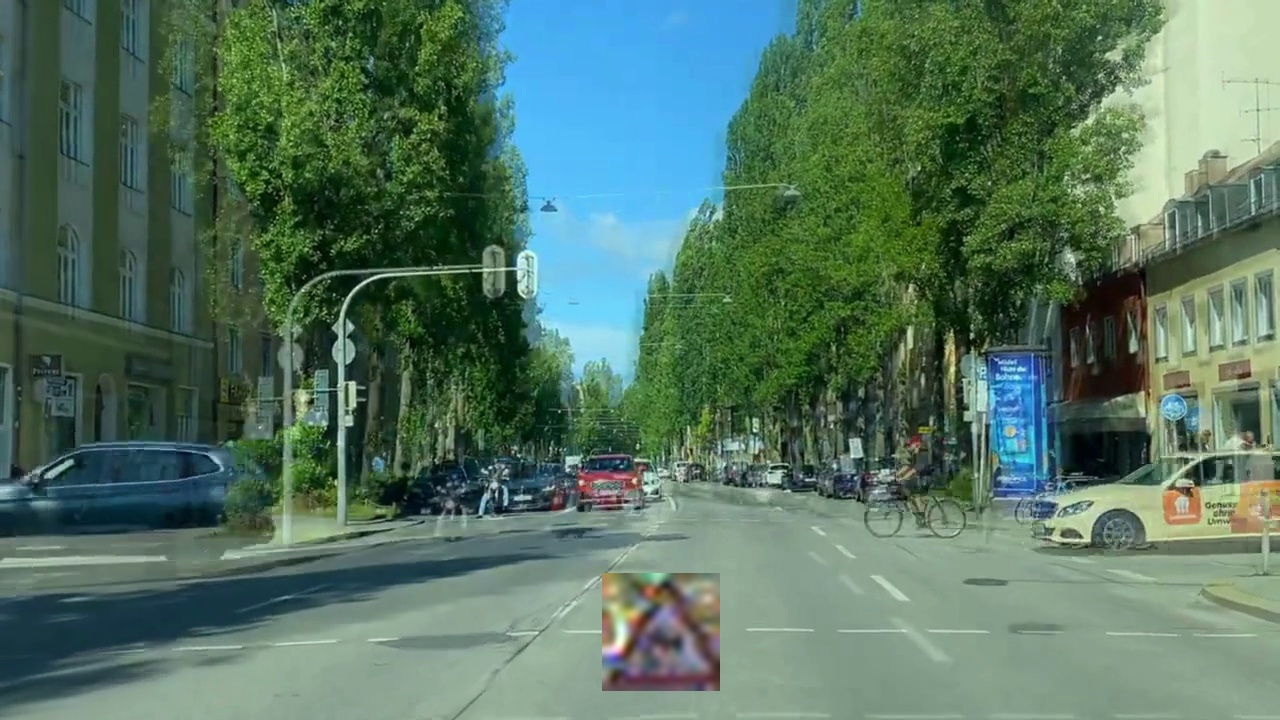Slippery: (602, 573, 720, 691)
